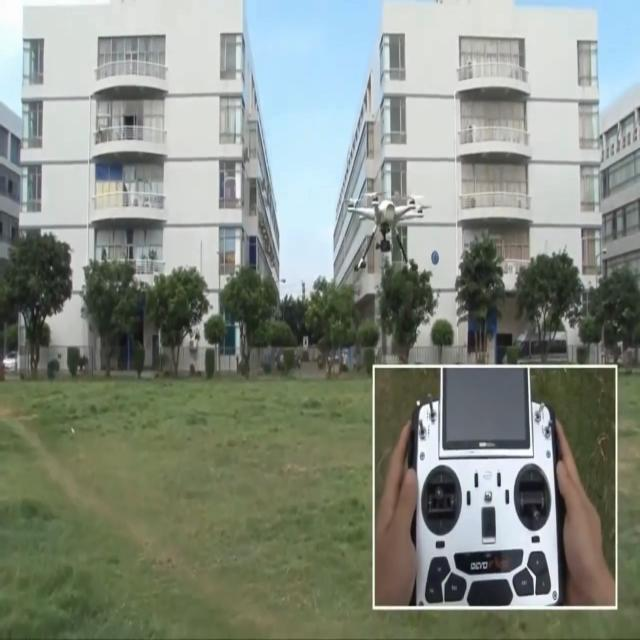drone: (344, 190, 432, 270)
